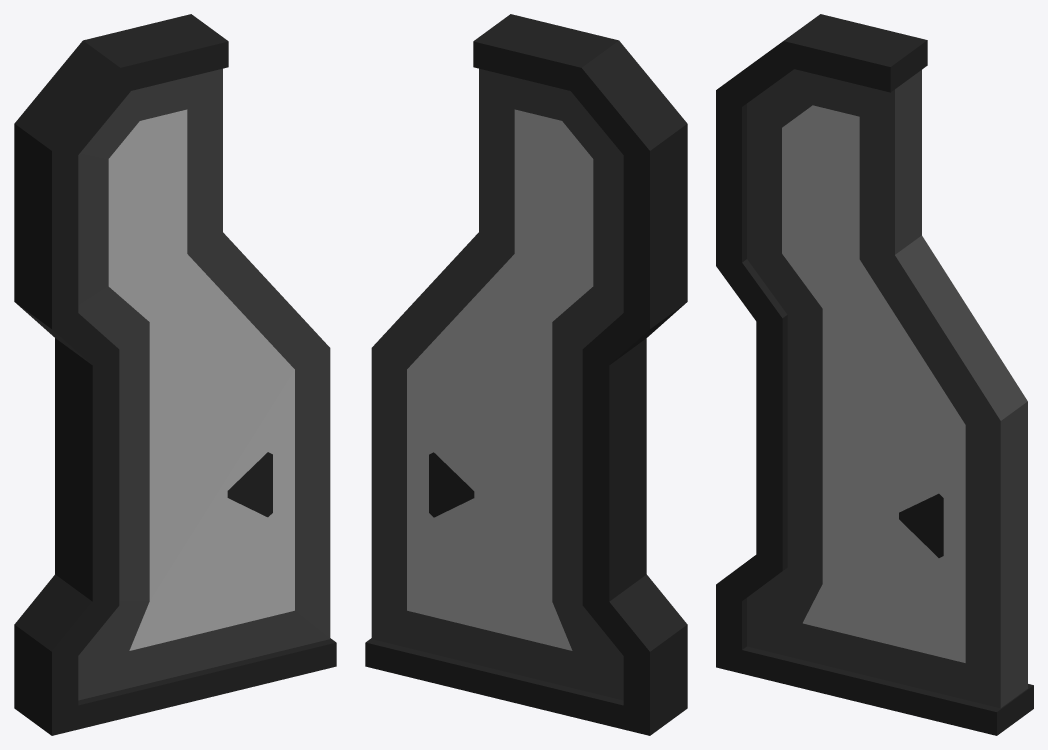
File: door_002.fbx
3 views of the same model, side by side, from view 1: azimuth 30°, elevation 25°; view 2: azimuth 150°, elevation 25°; view 3: azimuth 330°, elevation 25° (orthographic).
Visible parts, largest first — view 1: door_002; view 2: door_002; view 3: door_002.
Part boxes in pixels (x1,y1,x2,y2): door_002: (14, 14, 336, 735); door_002: (365, 14, 687, 735); door_002: (716, 14, 1033, 735).
Size of the model in its own units: 101 by 23.18 by 222.
